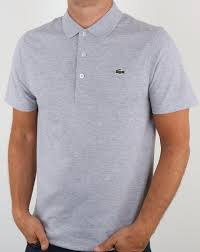S_polo shirt: (8, 12, 195, 249)
